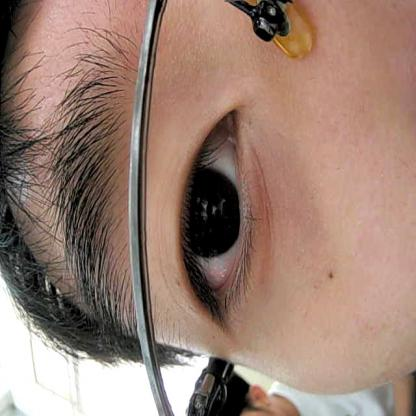Straight: (173, 94, 270, 333)
